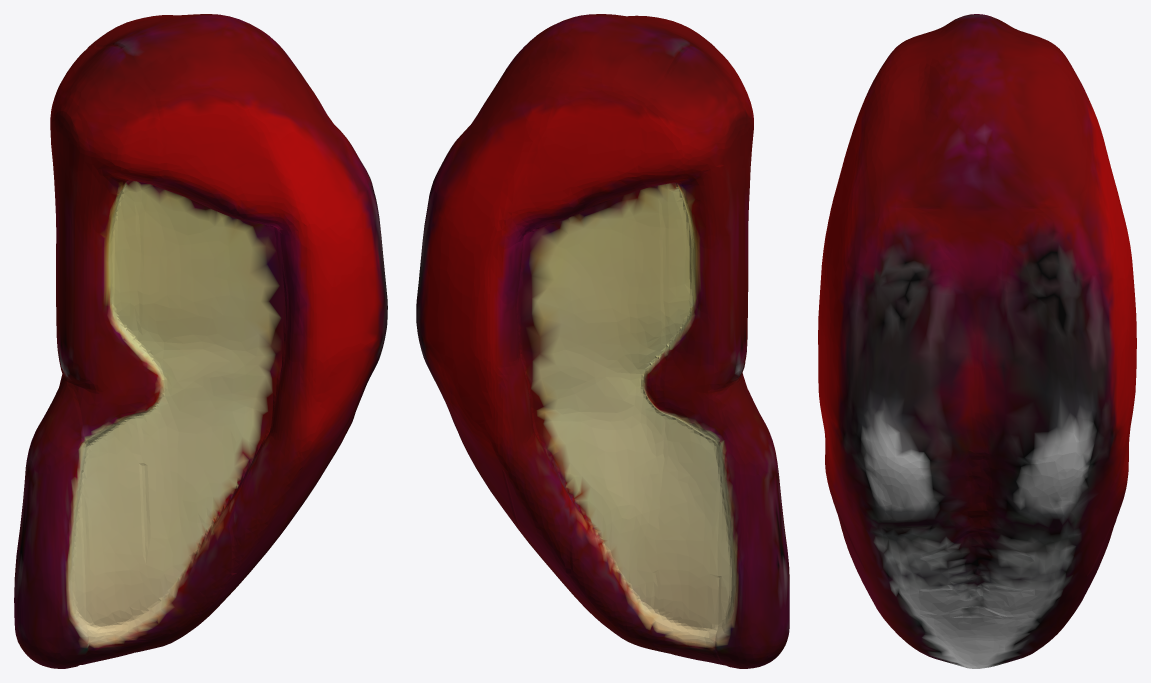
The model's file is apple_eighth.glb.
The picture shows the model from 3 angles, left to right: view 1: azimuth 30°, elevation 25°; view 2: azimuth 150°, elevation 25°; view 3: azimuth 270°, elevation 25°; orthographic projection. The views are drawn at different scales.
Parts seen in each view (by area): view 1: geometry_0; view 2: geometry_0; view 3: geometry_0.
Part boxes in pixels (bbox=[...]): geometry_0: bbox=[14, 14, 387, 668]; geometry_0: bbox=[416, 14, 789, 668]; geometry_0: bbox=[818, 14, 1136, 668].
Size of the model in its own units: 0.25 by 0.4562 by 0.202.
